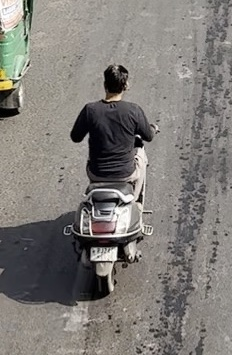BikeWithRider: (61, 61, 162, 298)
NoHelmet: (100, 62, 130, 103)
